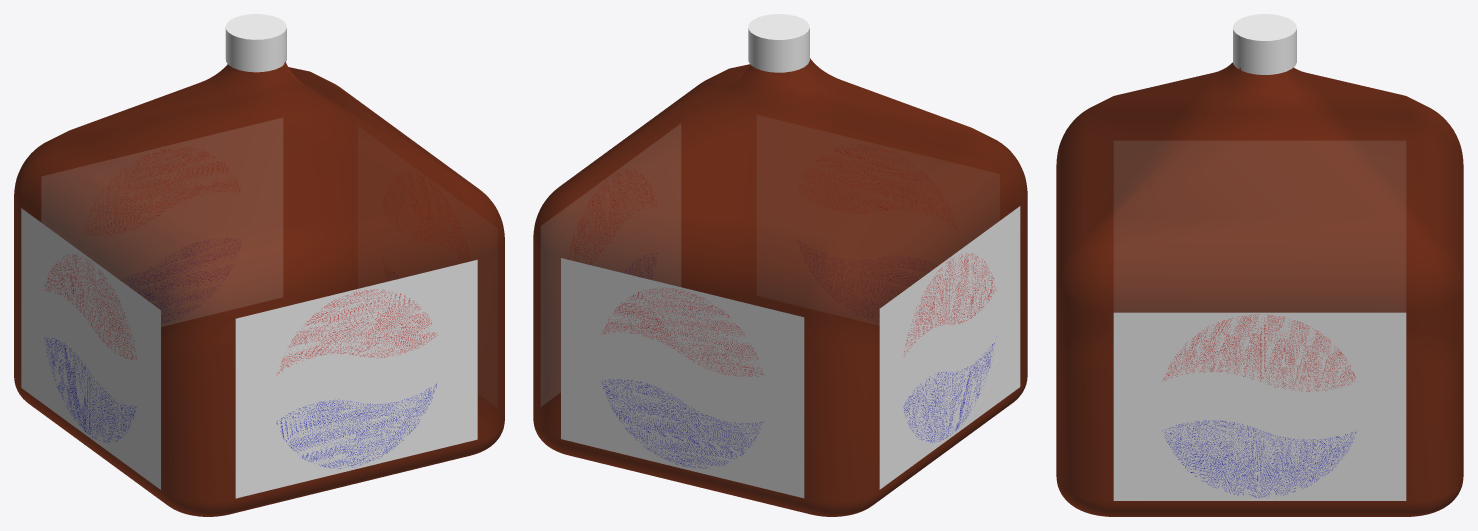
File: soda_can.dae
The picture shows the model from 3 angles, left to right: view 1: azimuth 30°, elevation 25°; view 2: azimuth 150°, elevation 25°; view 3: azimuth 270°, elevation 25°; orthographic projection. The views are drawn at different scales.
Visible parts, largest first — view 1: SketchUp (×17); view 2: SketchUp (×18); view 3: SketchUp (×7).
Boxes of the visible parts, bbox=[...] form: SketchUp (×17): bbox=[14, 14, 504, 516]; SketchUp (×18): bbox=[533, 14, 1027, 516]; SketchUp (×7): bbox=[1056, 14, 1463, 516].
Size of the model in its own units: 19.01 by 19 by 21.23.
